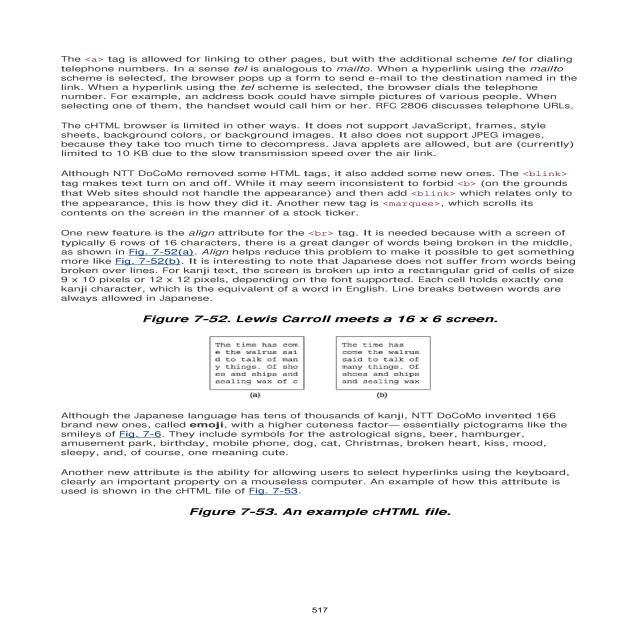diagram: (111, 312, 581, 403)
